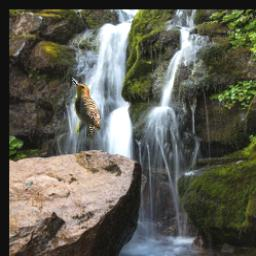Woodpecker: (72, 79, 101, 141)
